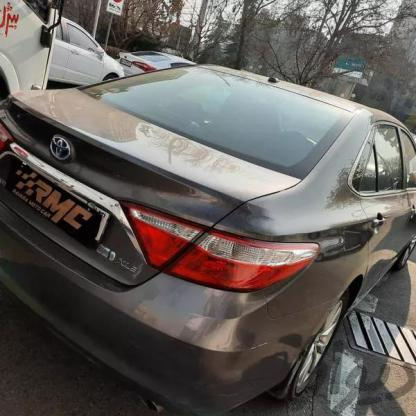Car: (0, 70, 416, 416), (0, 9, 122, 102), (121, 44, 196, 71)
